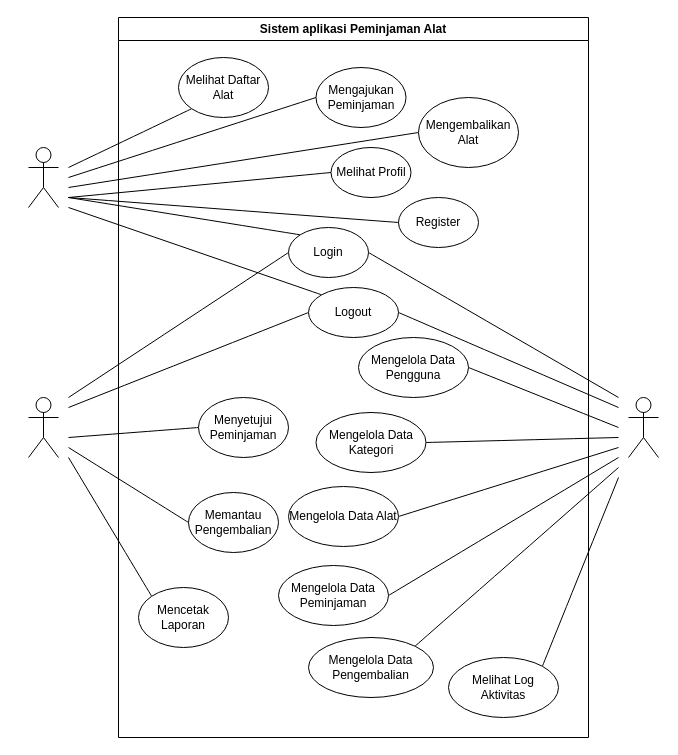
This 678x755 diagram has some shape labels left out. Here are the shapes that lost their labels. From the top down, the centre of each, then its label:
At pixel 43 177: "Peminjam".
At pixel 43 427: "Petugas".
At pixel 643 427: "Admin".
